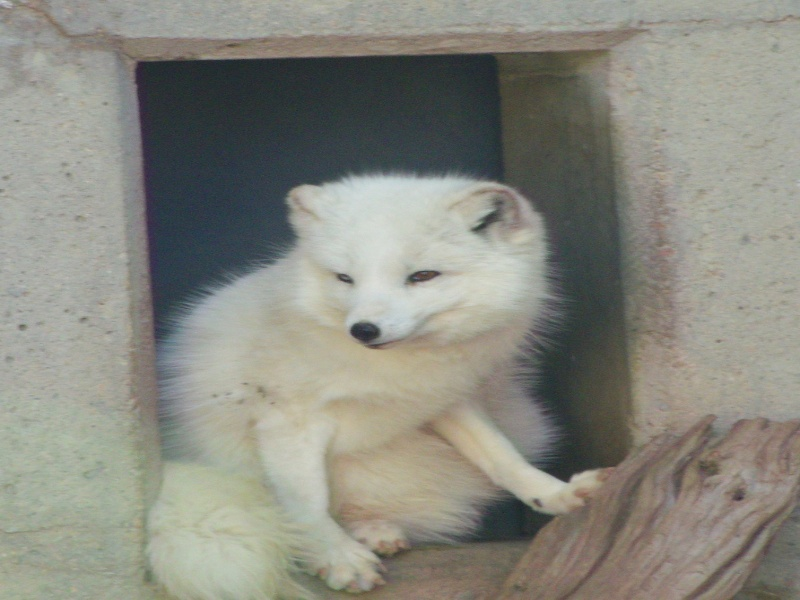fox: (144, 155, 603, 600)
